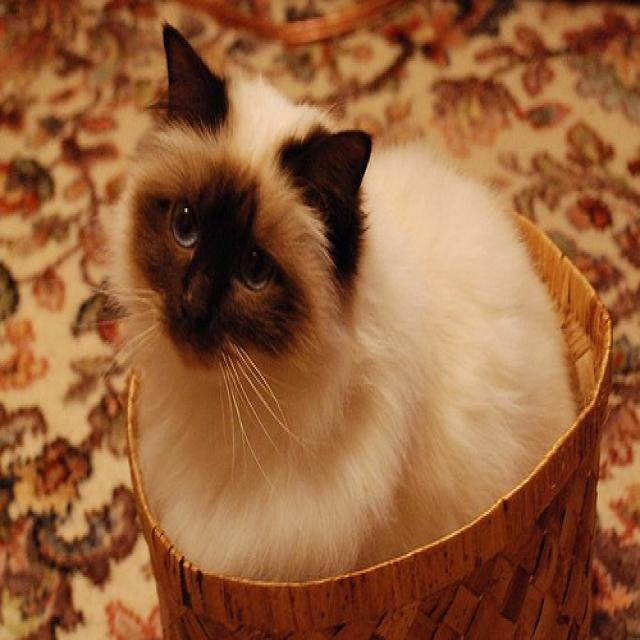Birman: (112, 18, 372, 411)
